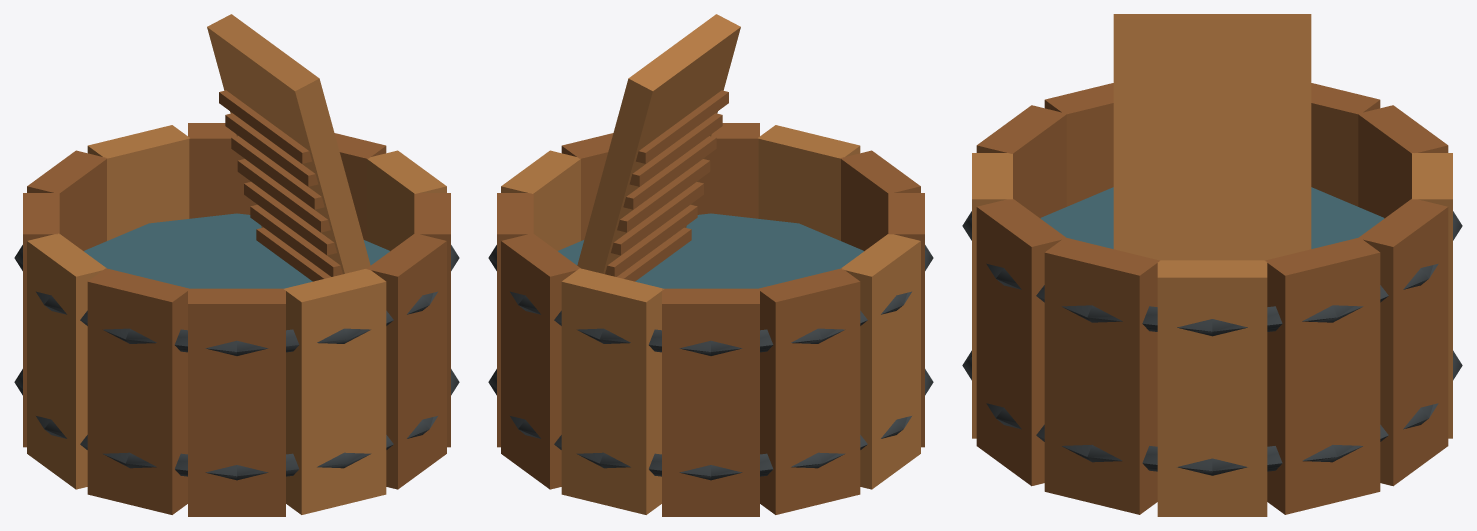
Rendered from 36_wash_tub.fbx.
3 views of the same model, side by side, from view 1: azimuth 30°, elevation 25°; view 2: azimuth 150°, elevation 25°; view 3: azimuth 270°, elevation 25° (orthographic). The views are drawn at different scales.
Visible parts, largest first — view 1: 36_wash_tub; view 2: 36_wash_tub; view 3: 36_wash_tub.
Boxes of the visible parts, x1,y1,x2,y2 form: 36_wash_tub: (14,14,459,516); 36_wash_tub: (488,14,933,516); 36_wash_tub: (962,14,1462,516).
Bounding box in the file's own units: 0.91 × 0.8362 × 0.91.
1 material, 1 textured.
